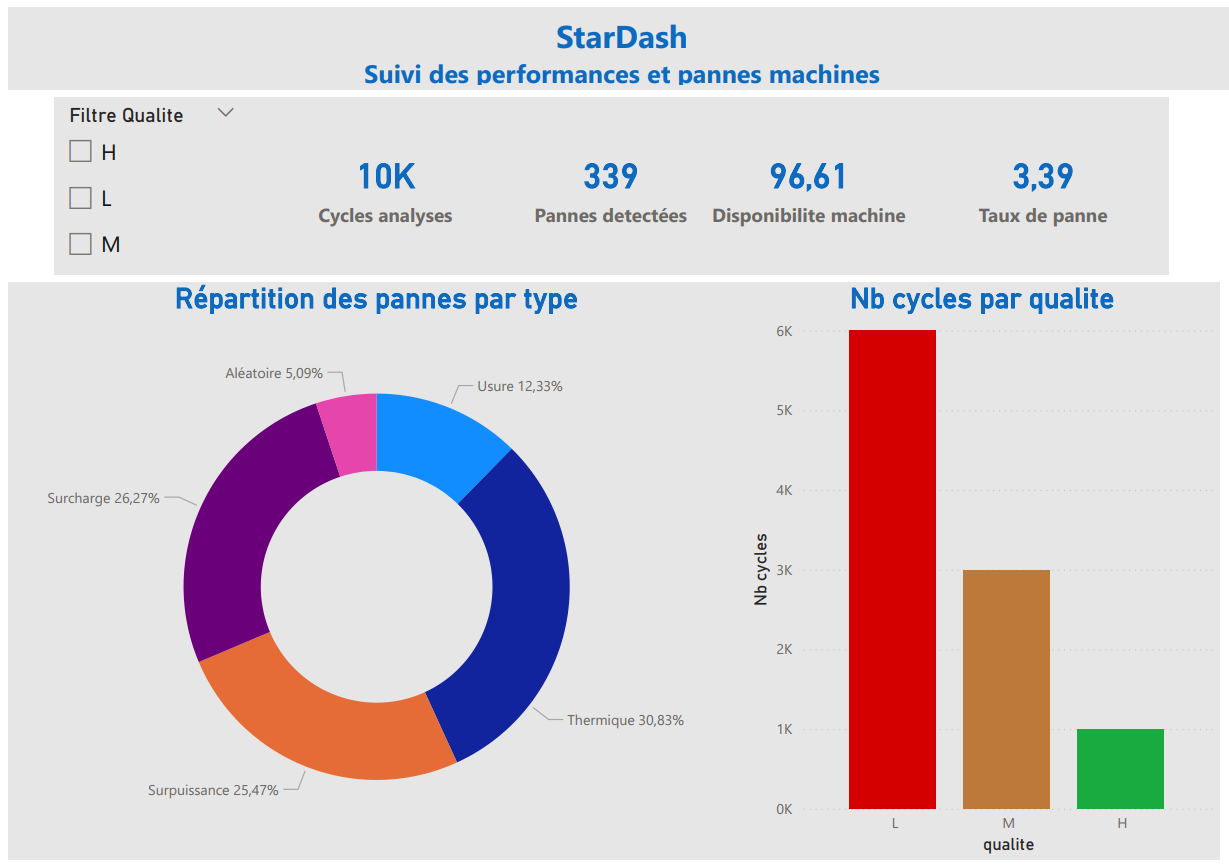

Layout of this report page (visuals, bound fields, positions):
{"tool":"powerbi","page":{"name":"Dash 1","canvas":[1280,720],"ordinal":0},"visuals":[{"type":"donutChart","title":"Répartition des pannes par type","fields":{"Y":["public fait_capteurs.Pannes usure","public fait_capteurs.Pannes thermiques","public fait_capteurs.Pannes surpuissance","public fait_capteurs.Pannes surcharge","public fait_capteurs.Pannes aleatoire"]},"box":[97,232,623,488],"z":0},{"type":"textbox","box":[97,0,1046,70],"z":1000},{"type":"card","fields":{"Values":["public fait_capteurs.Taux de panne"]},"box":[865.9,76,212.4,150.3],"z":2000},{"type":"slicer","fields":{"Values":["public dim_machine.qualite"]},"box":[136.1,76,164.9,150.3],"z":3000},{"type":"card","fields":{"Values":["public fait_capteurs.Cycles analyses"]},"box":[301,76,230.5,150.3],"z":4000},{"type":"card","fields":{"Values":["public fait_capteurs.Pannes detectees"]},"box":[531.5,76,150.3,150.3],"z":5000},{"type":"card","fields":{"Values":["public fait_capteurs.Disponibilite machine"]},"box":[681.7,76,184.1,150.3],"z":6000},{"type":"clusteredColumnChart","fields":{"Category":["public dim_machine.qualite"],"Y":["public fait_capteurs.Nb cycles"]},"box":[720,232,401,488],"z":7000}]}

Visuals, with their boxes on the page's 1280x720 design canvas (x1, y1, x2, y2). These are canvas units, not pixel positions in the 1229x866 screenshot, which may show the page scaled, cropped or inside an application window:
"Répartition des pannes par type" donutChart: bbox=[97, 232, 720, 720]
textbox: bbox=[97, 0, 1143, 70]
card - public fait_capteurs.Taux de panne: bbox=[866, 76, 1078, 226]
slicer - public dim_machine.qualite: bbox=[136, 76, 301, 226]
card - public fait_capteurs.Cycles analyses: bbox=[301, 76, 532, 226]
card - public fait_capteurs.Pannes detectees: bbox=[532, 76, 682, 226]
card - public fait_capteurs.Disponibilite machine: bbox=[682, 76, 866, 226]
clusteredColumnChart - public dim_machine.qualite x public fait_capteurs.Nb cycles: bbox=[720, 232, 1121, 720]
